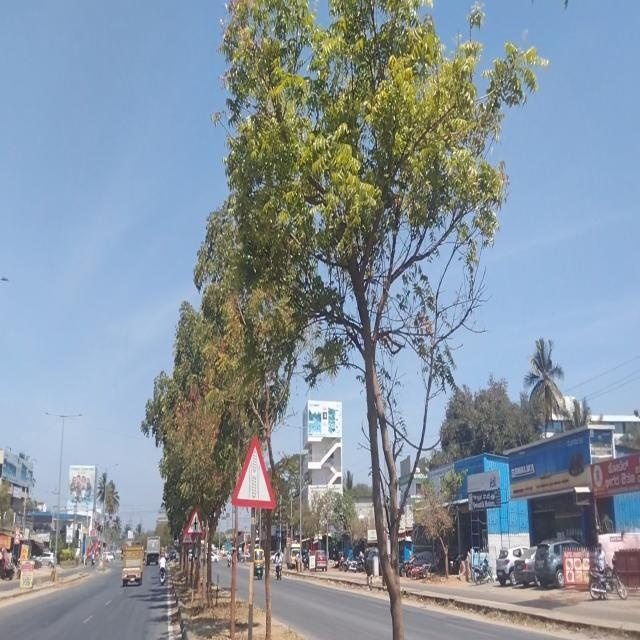bien_nguy_hiem: (230, 434, 276, 510), (186, 505, 204, 537), (182, 528, 194, 547)
